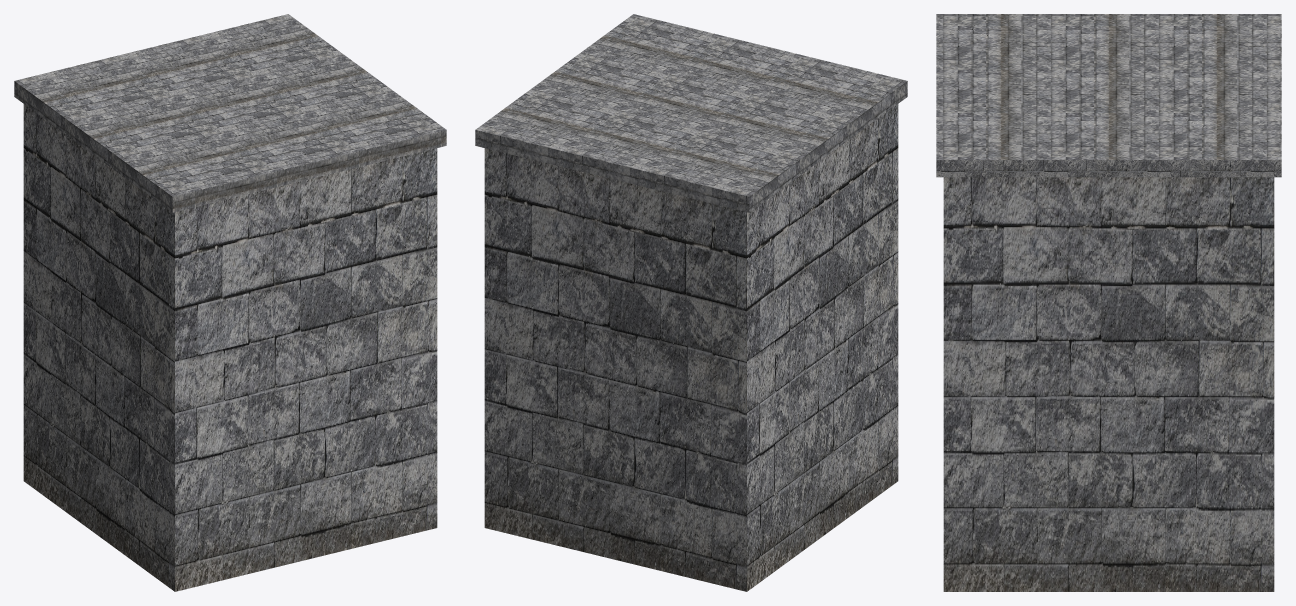
File: binasdjlşll.fbx
3 views of the same model, side by side, from view 1: azimuth 30°, elevation 25°; view 2: azimuth 150°, elevation 25°; view 3: azimuth 270°, elevation 25° (orthographic). The views are drawn at different scales.
Parts seen in each view (by area): view 1: Cube; view 2: Cube; view 3: Cube.
Part boxes in pixels (x1,y1,x2,y2): Cube: (14,14,446,591); Cube: (475,14,907,591); Cube: (936,14,1281,591).
Size of the model in its own units: 209 by 291 by 209.
